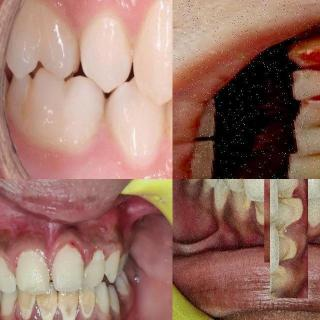Gum Swelling: (0, 230, 124, 279), (0, 302, 44, 320), (74, 303, 112, 320)
calculus: (276, 198, 304, 226), (276, 232, 300, 264), (270, 261, 295, 287), (235, 193, 252, 223), (254, 196, 268, 230), (275, 183, 299, 200), (59, 300, 78, 320), (17, 297, 34, 319), (82, 298, 95, 320), (40, 300, 54, 320), (217, 179, 245, 189)
maligned: (293, 97, 320, 128)
